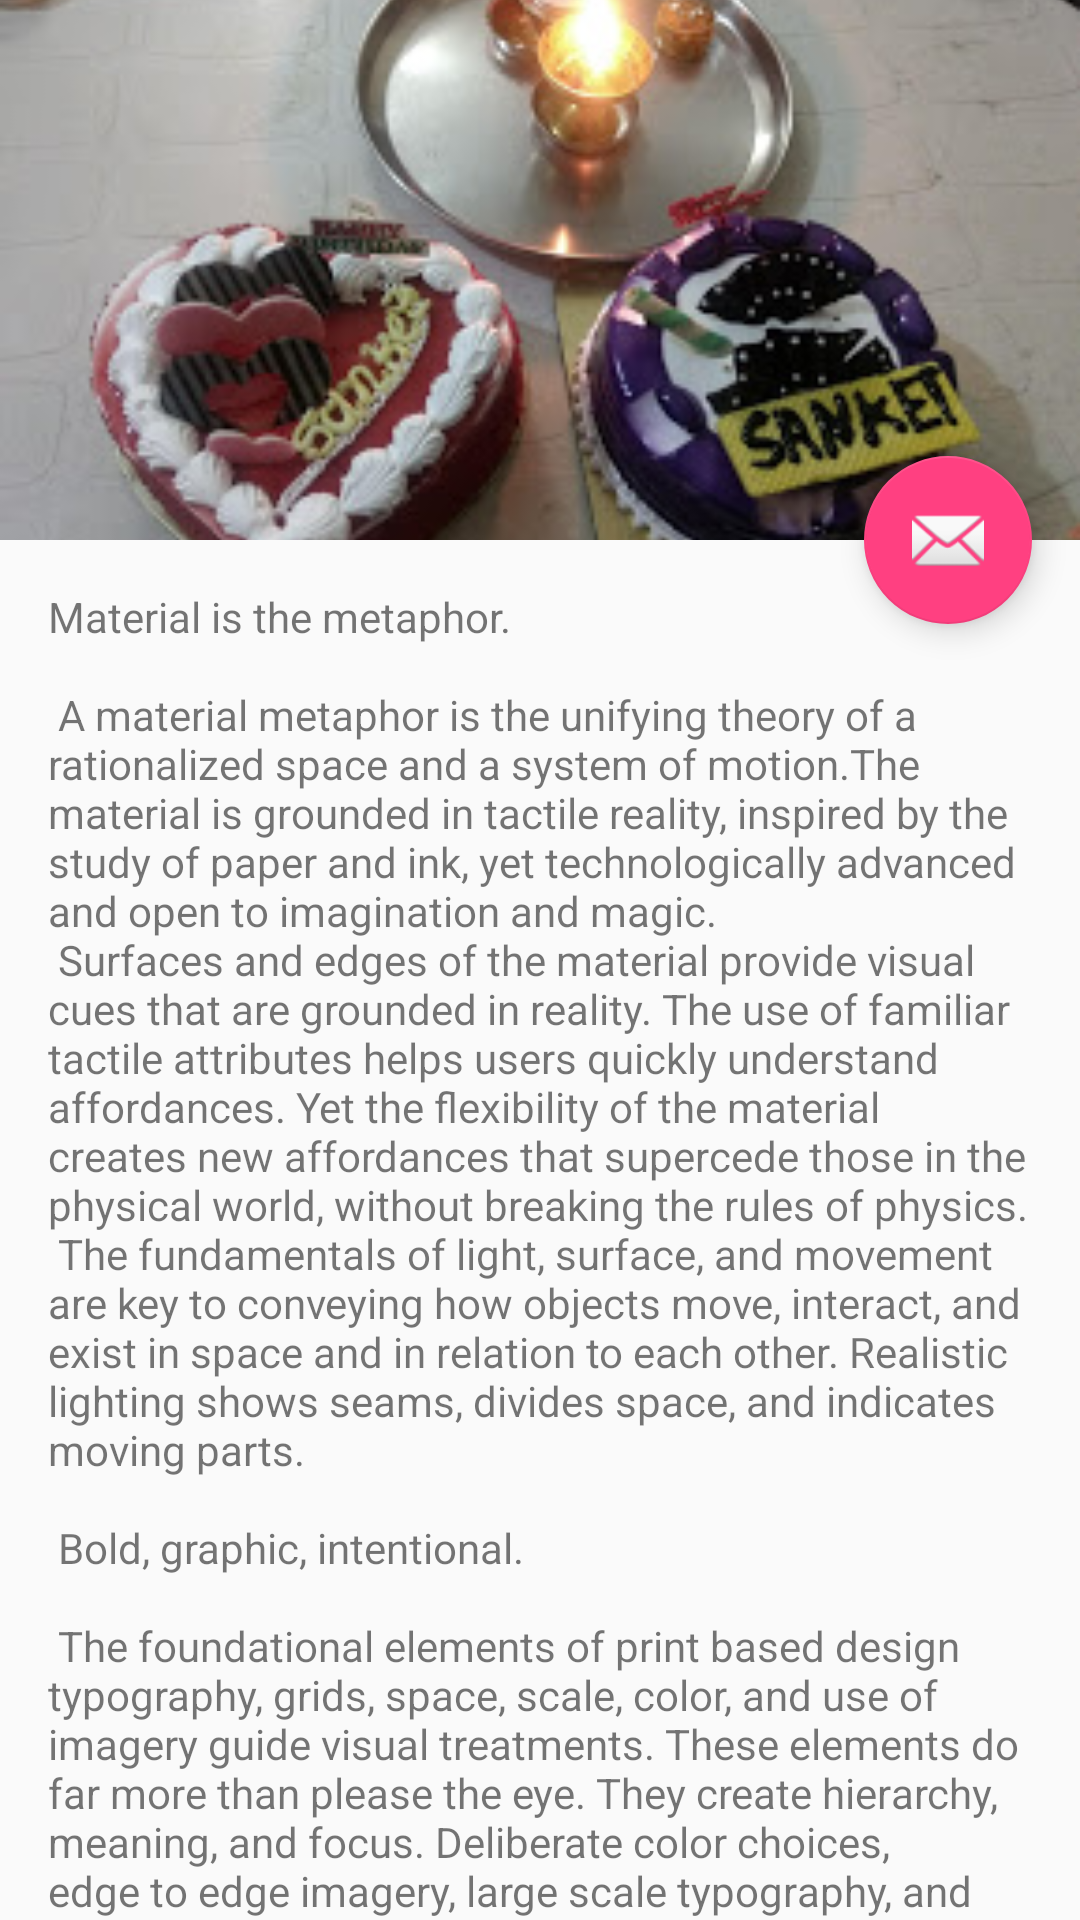

Point at icon controls on the screen. Image size 1080px x 1920px, points as point (x, y).
email: point (948, 540)
